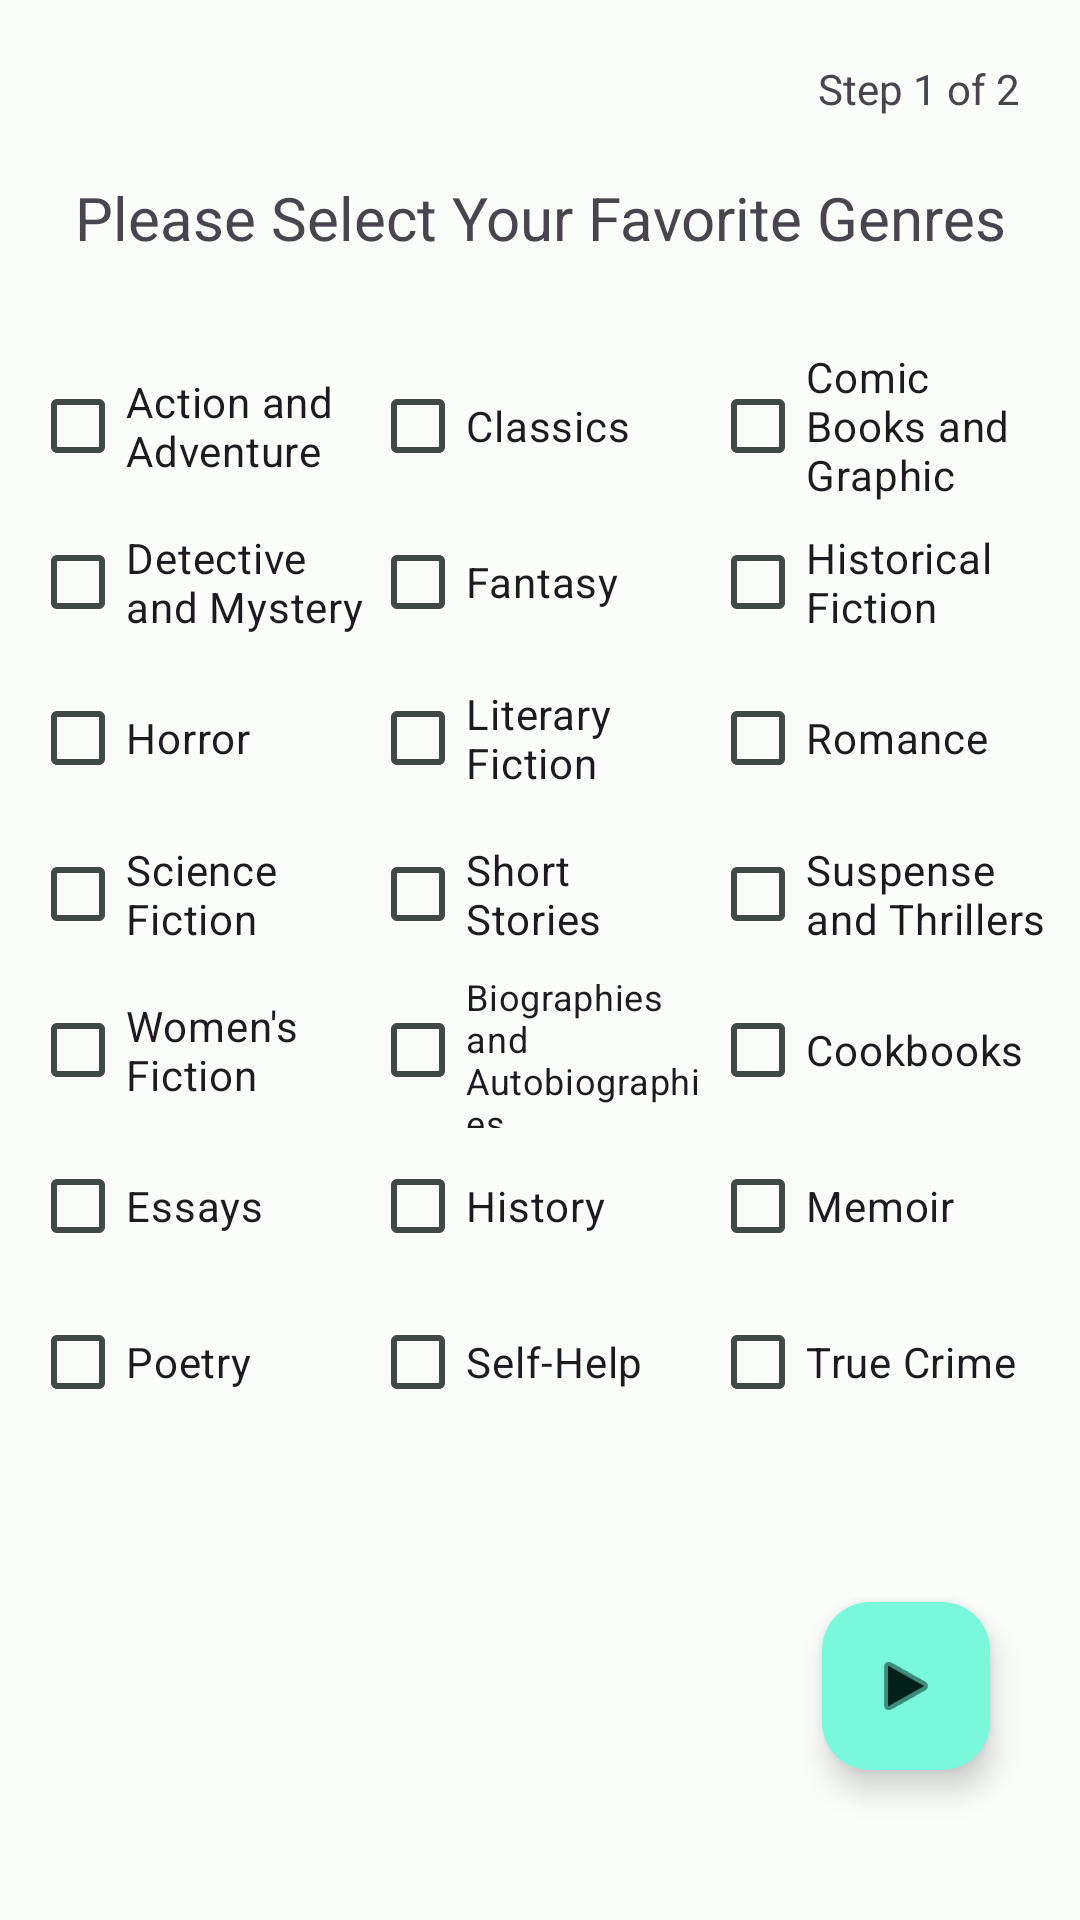

Icon click points for this 1080 × 1920 phone screenshot, format (x,y):
play: (906,1686)
